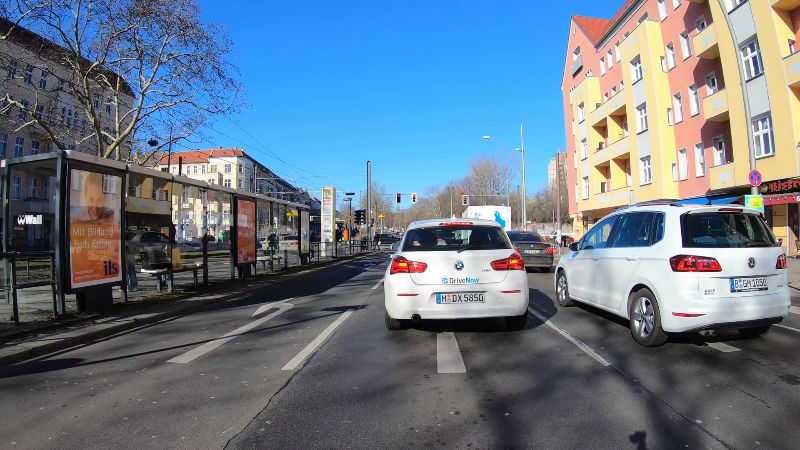Plate: (433, 290, 487, 303), (726, 276, 769, 292)
